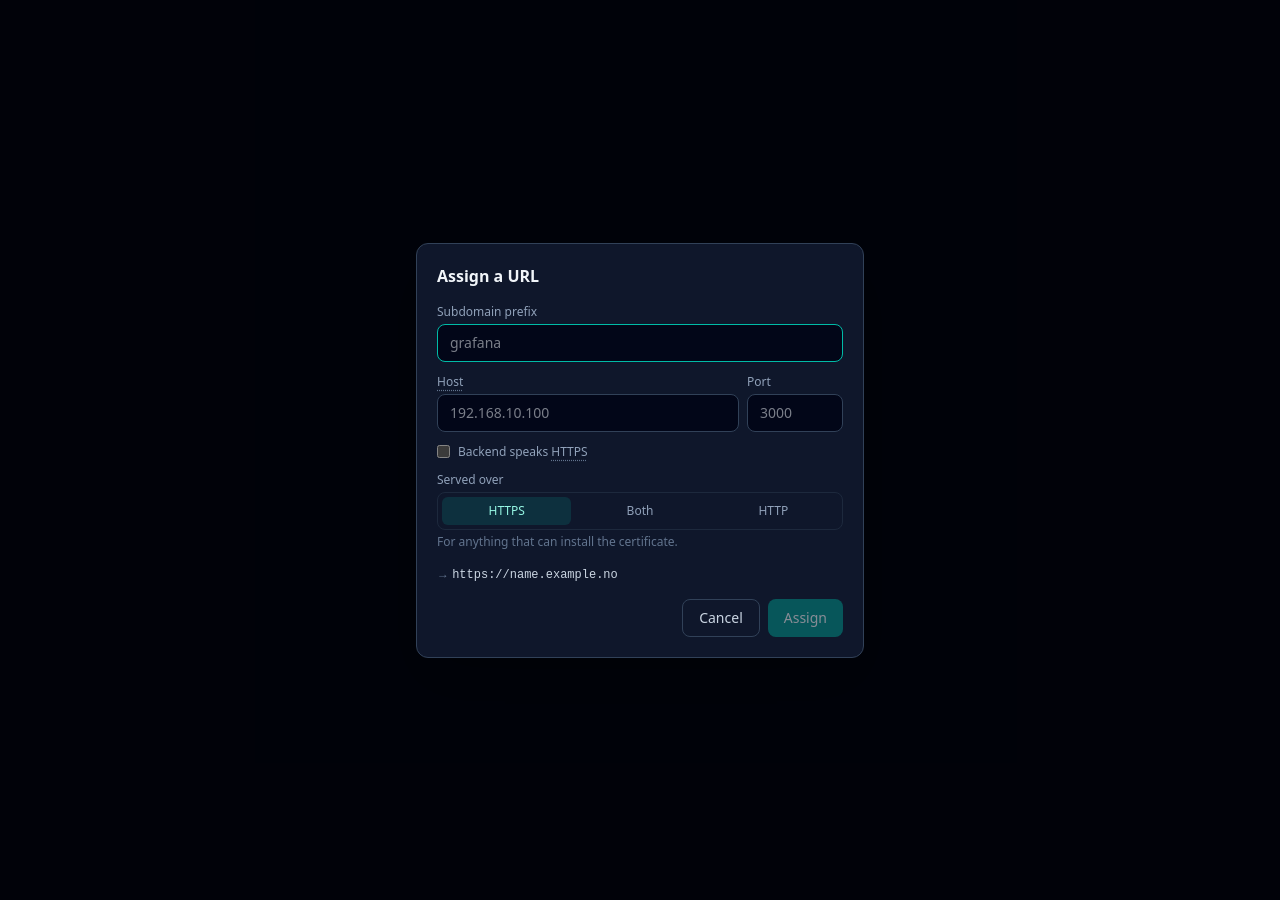
Scenario: the word Host is a hint: where Caddy must reach the address from
This screenshot has width=1280, height=900.
Click the button "Host" at (450, 382), box [437,374,463,390]
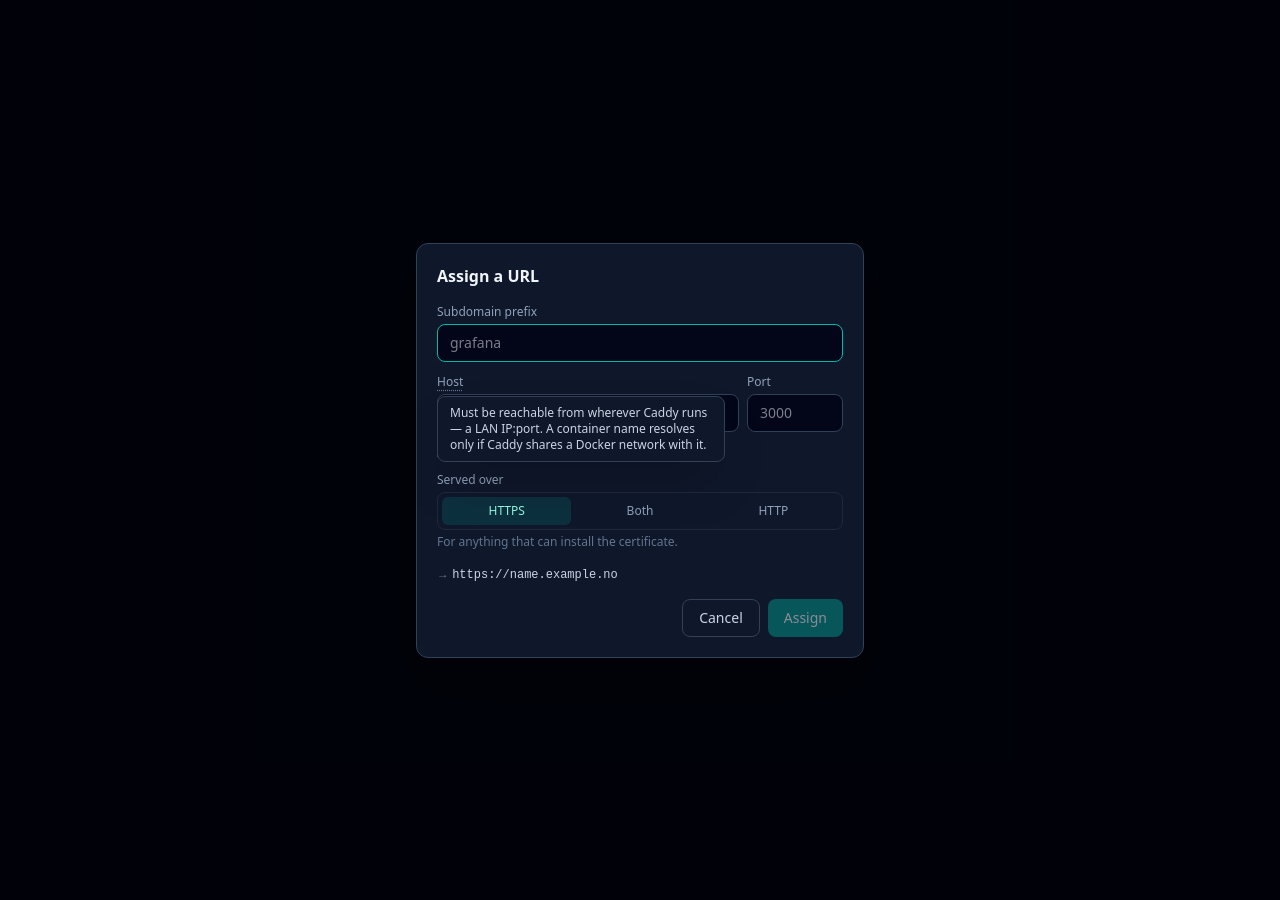
Now the tooltip shows "Must be reachable from wherever Caddy runs", box [450,404,707,452]
